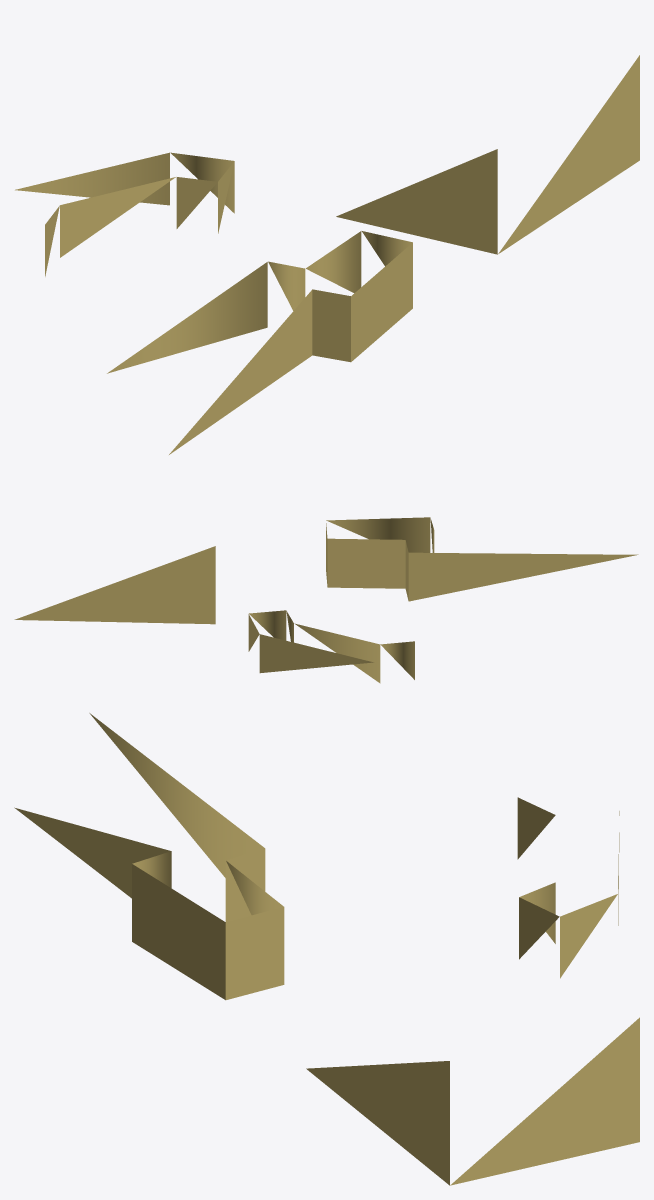
The picture shows the model from 3 angles, top to bottom: view 1: azimuth 30°, elevation 25°; view 2: azimuth 150°, elevation 25°; view 3: azimuth 270°, elevation 25°; orthographic projection. The views are drawn at different scales.
Size of the model in its own units: 136 by 20 by 90.88.
